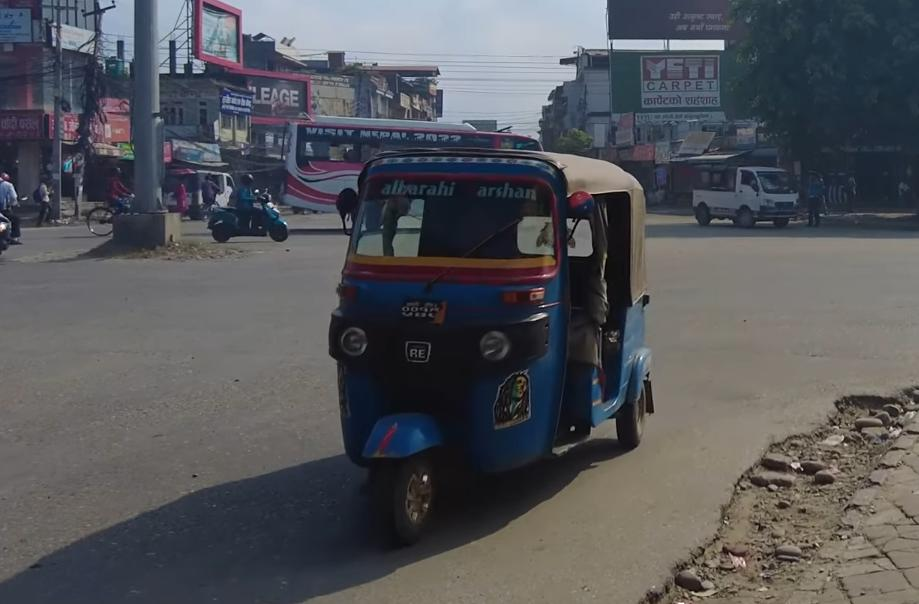auto_rickshaw: (322, 141, 670, 567)
scooter: (202, 186, 295, 245)
van: (690, 159, 804, 235)
